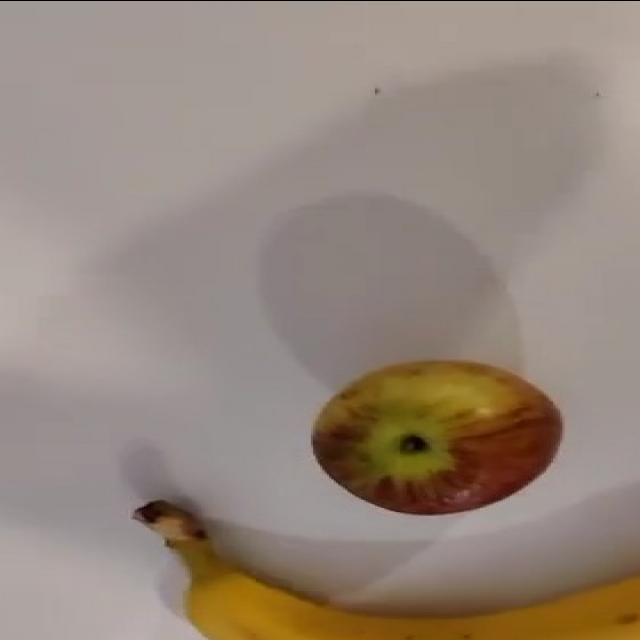Apple: (310, 358, 563, 515)
Banana: (131, 498, 639, 639)
